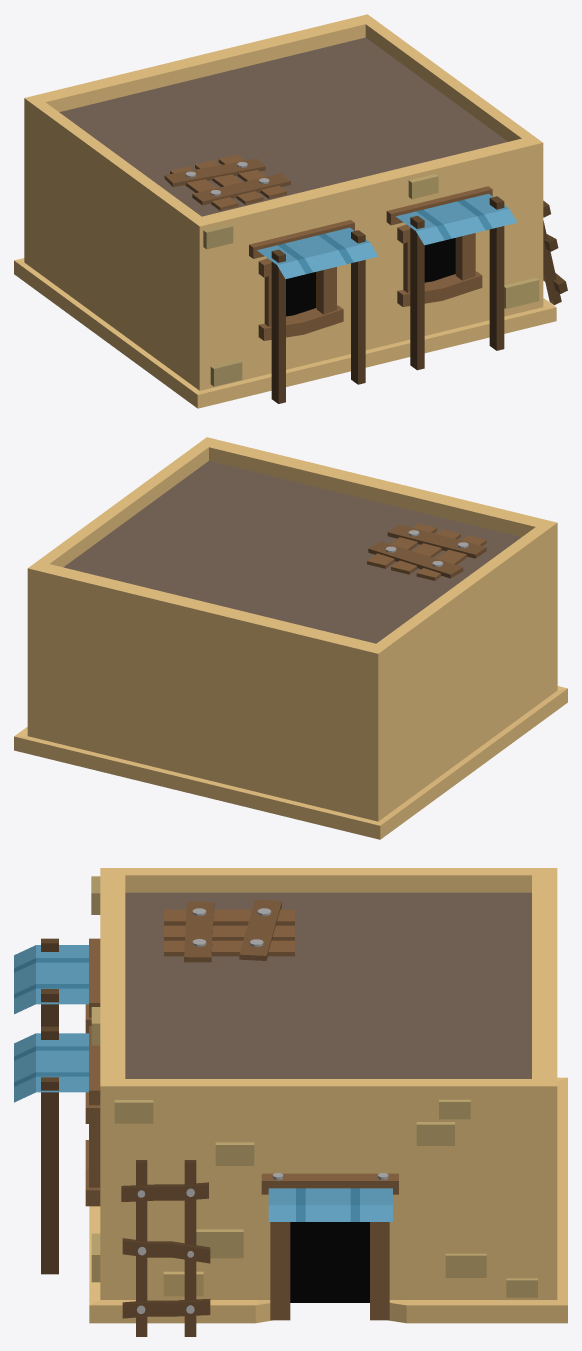
File: DesertHouse_3.fbx
3 renders of one model, top to bottom at view 1: azimuth 30°, elevation 25°; view 2: azimuth 150°, elevation 25°; view 3: azimuth 270°, elevation 25°, orthographic. The views are drawn at different scales.
Parts seen in each view (by area): view 1: Cube.054, Cube.144, Plane.008, Plane.004, Cube.082, Cube.080, Cube.079, Cube.081, Cube.101, Cube.061, Cube.106, Cube.077 (+7 smaller); view 2: Cube.054, Cube.144; view 3: Cube.054, Cube.106, Cube.144, Plane.007, Plane.008, Plane.004, Cube.079, Cube.099, Cube.098, Cube.097, Cube.091, Cube.090 (+10 smaller).
Part boxes in pixels (x1=…): Cube.054: x1=14, y1=14, x2=556, y2=408; Cube.144: x1=164, y1=154, x2=290, y2=210; Plane.008: x1=396, y1=193, x2=517, y2=245; Plane.004: x1=257, y1=227, x2=378, y2=279; Cube.082: x1=271, y1=249, x2=285, y2=403; Cube.080: x1=410, y1=215, x2=424, y2=370; Cube.079: x1=489, y1=196, x2=504, y2=350; Cube.081: x1=351, y1=230, x2=365, y2=384; Cube.101: x1=397, y1=271, x2=482, y2=306; Cube.061: x1=258, y1=305, x2=343, y2=340; Cube.106: x1=543, y1=200, x2=567, y2=305; Cube.077: x1=386, y1=186, x2=492, y2=225; Cube.054: x1=14, y1=437, x2=567, y2=839; Cube.144: x1=367, y1=523, x2=486, y2=580; Cube.054: x1=89, y1=868, x2=567, y2=1323; Cube.106: x1=121, y1=1160, x2=210, y2=1336; Cube.144: x1=164, y1=899, x2=294, y2=962; Plane.007: x1=268, y1=1188, x2=392, y2=1221; Plane.008: x1=14, y1=1033, x2=88, y2=1102; Plane.004: x1=14, y1=945, x2=88, y2=1014; Cube.079: x1=41, y1=1077, x2=58, y2=1274; Cube.099: x1=261, y1=1173, x2=398, y2=1194; Cube.098: x1=270, y1=1222, x2=290, y2=1320; Cube.097: x1=370, y1=1222, x2=389, y2=1320; Cube.091: x1=196, y1=1229, x2=243, y2=1258; Cube.090: x1=445, y1=1253, x2=486, y2=1277.
Size of the model in its own units: 377 by 162 by 349.
